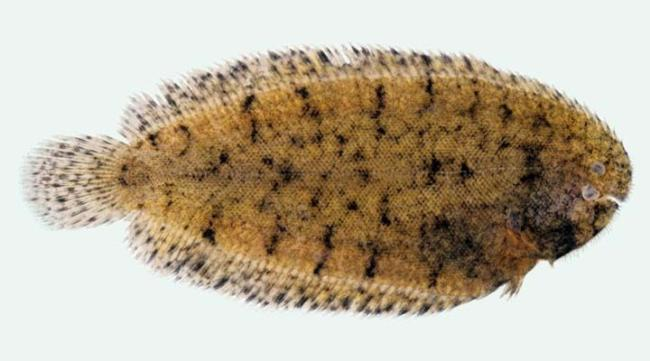fish: (19, 41, 634, 317)
